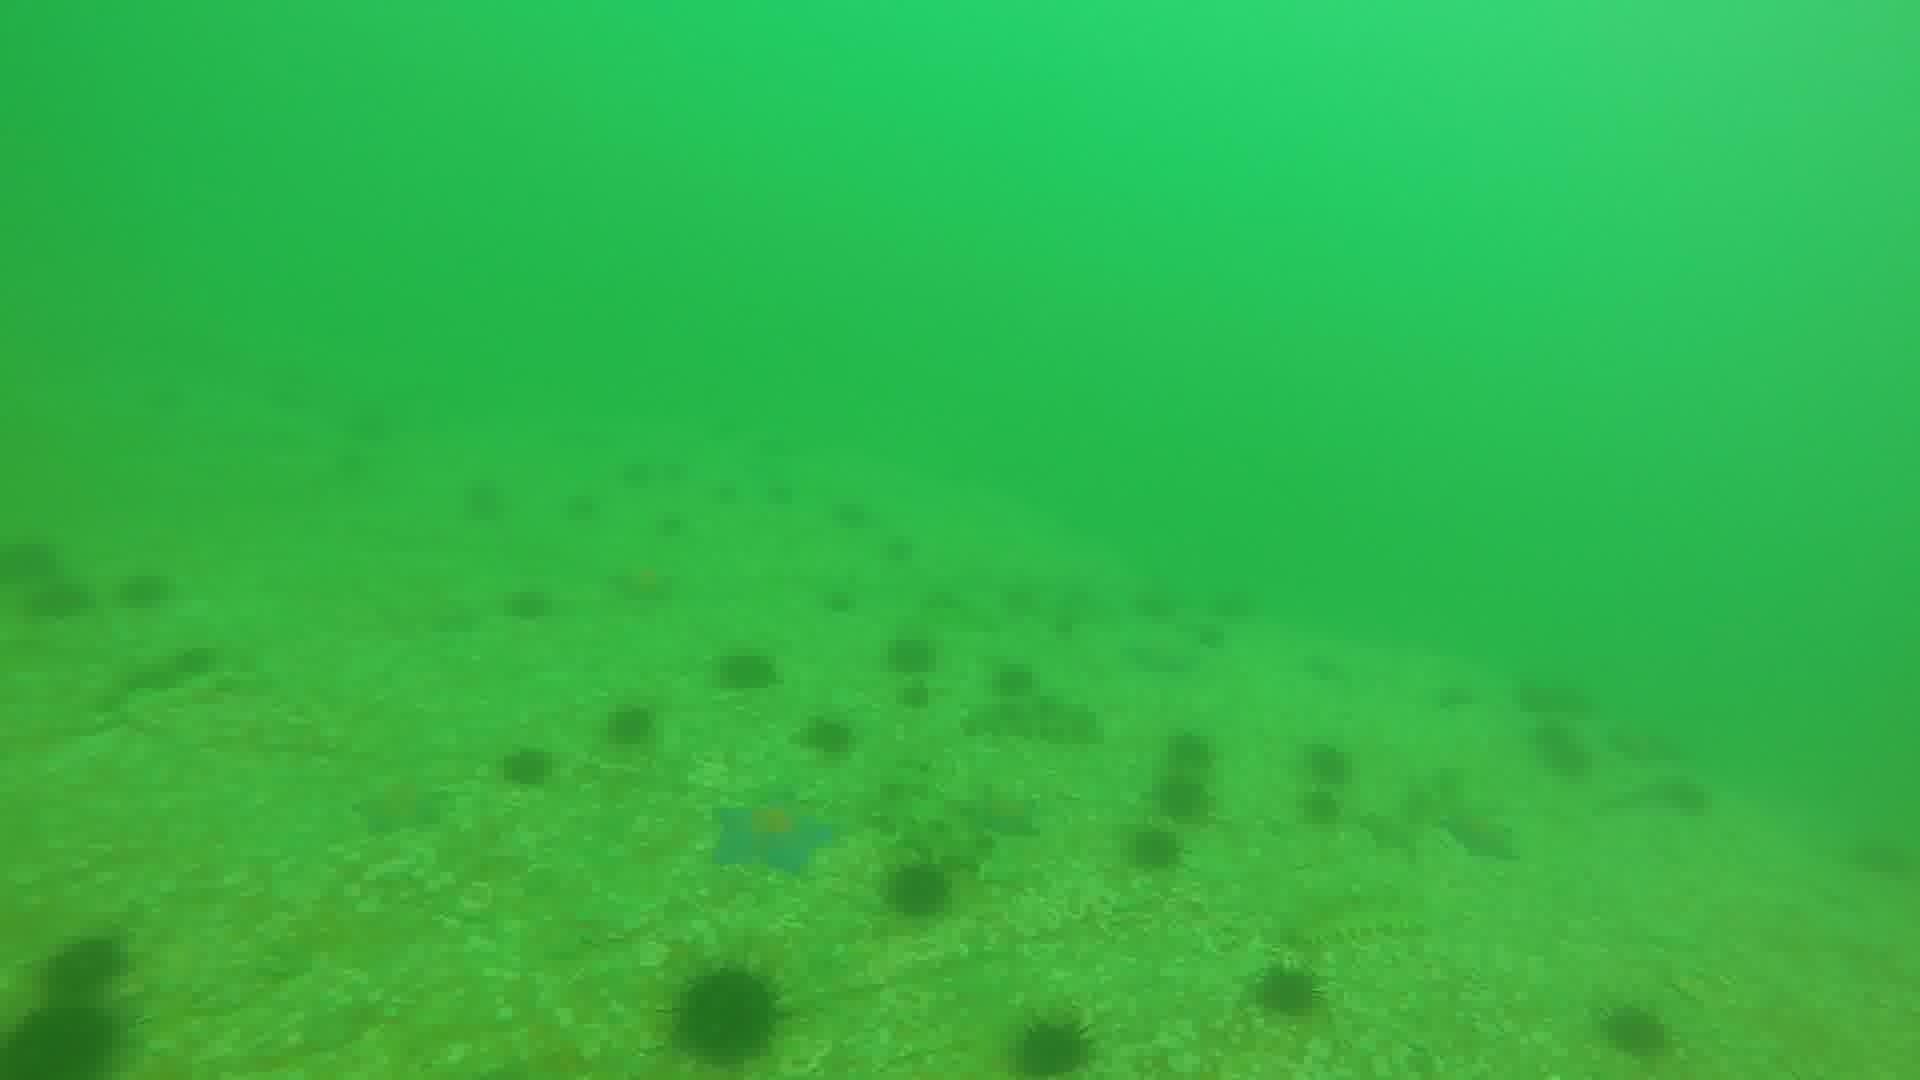echinus: (669, 963, 793, 1073), (3, 996, 142, 1080), (33, 938, 138, 1000), (1007, 1021, 1106, 1080), (1604, 1002, 1683, 1067), (885, 855, 961, 916), (1530, 711, 1582, 786), (454, 473, 516, 535), (1156, 728, 1233, 777), (1255, 967, 1323, 1017), (1153, 775, 1216, 828), (716, 651, 791, 692), (498, 744, 572, 785), (117, 571, 185, 615), (1298, 746, 1365, 789), (1, 546, 73, 585), (831, 487, 885, 538), (891, 632, 949, 678), (1211, 580, 1265, 628), (40, 570, 98, 613), (1298, 781, 1352, 827), (603, 702, 659, 744), (1135, 827, 1185, 874), (982, 657, 1042, 694), (810, 716, 858, 757), (512, 585, 564, 620), (823, 578, 858, 621)
holothurian: (957, 690, 1101, 738)
starfish: (707, 804, 839, 870), (943, 785, 1052, 844), (357, 782, 465, 835), (607, 567, 683, 604)
